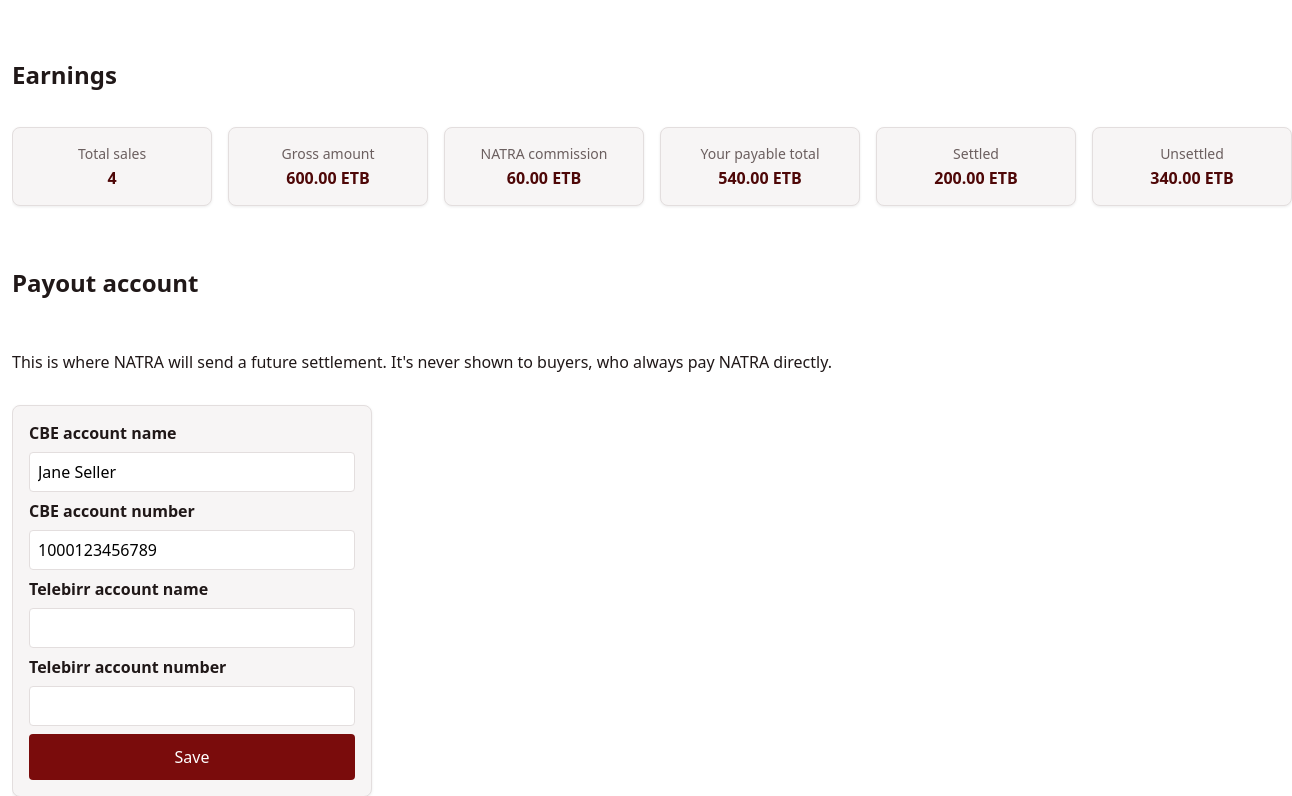
Test: SellerPayments › clears the 'Saved.' confirmation as soon as a field is edited again
(page scrolled)
expect the field labelled "CBE account name" is shown: met, box [29,452,355,492]
Click the button "Save" at point(192, 756), box [29,734,355,780]
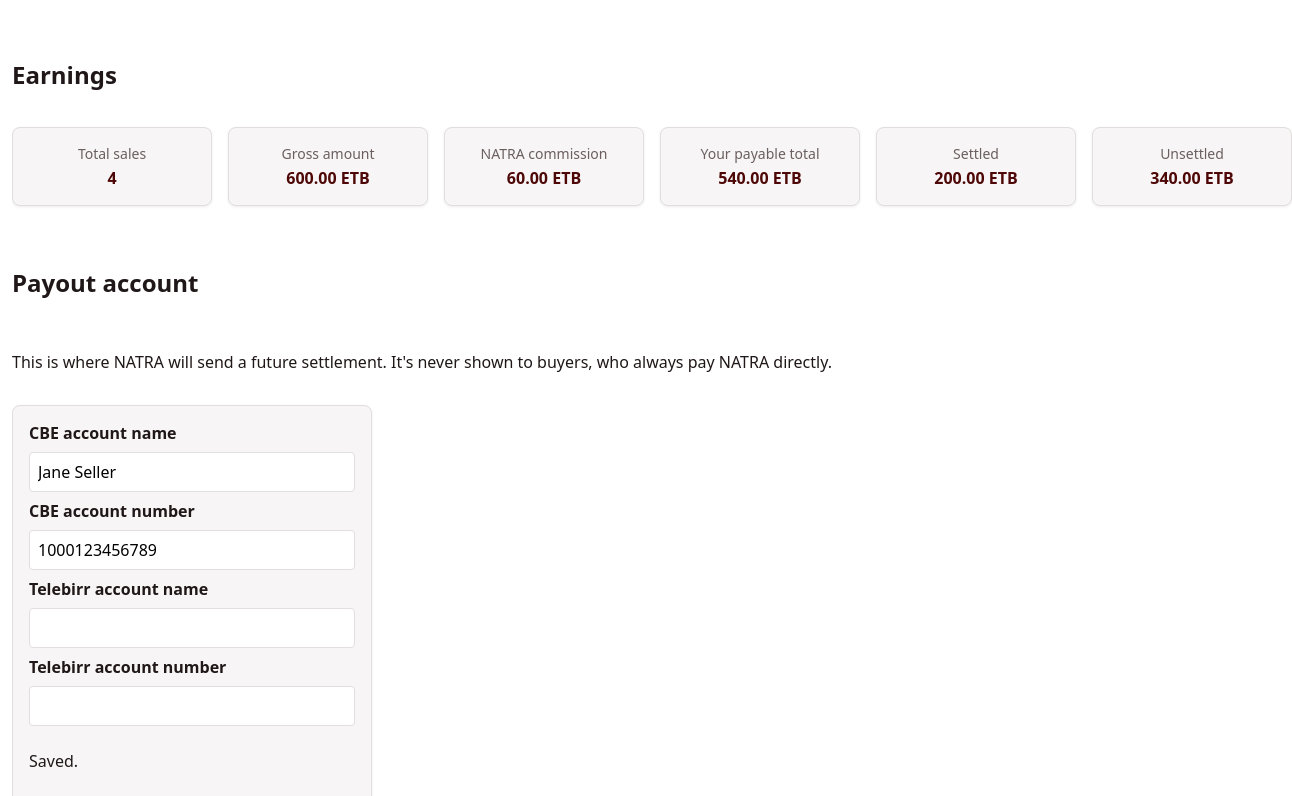
expect the text "Saved." is shown: met, box [29,750,78,772]
Type "!" into the field labelled "CBE account name" at point(192, 472), box [29,452,355,492]
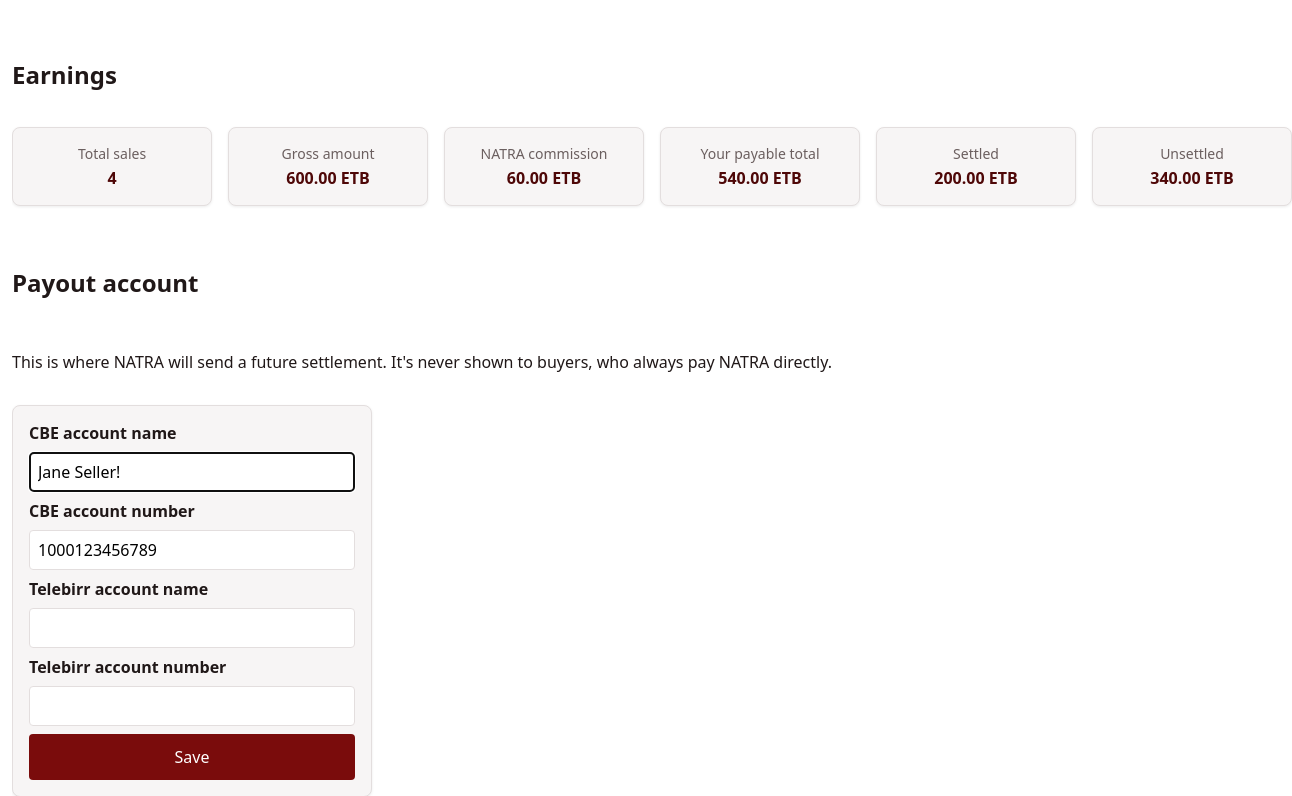
expect the text "Saved." is gone: met
